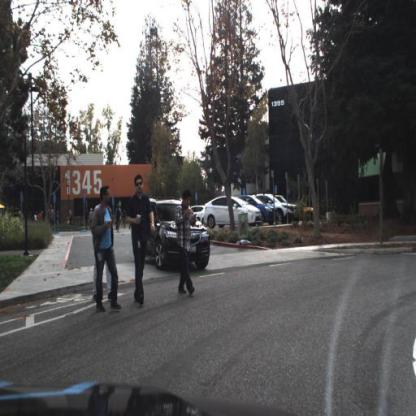car: (142, 198, 211, 270), (212, 188, 262, 227), (256, 190, 299, 223), (238, 195, 280, 226)
pedestrian: (89, 184, 123, 318), (126, 174, 158, 309), (175, 190, 199, 297), (93, 198, 112, 300), (47, 202, 58, 237), (44, 207, 54, 228), (88, 206, 95, 233)
